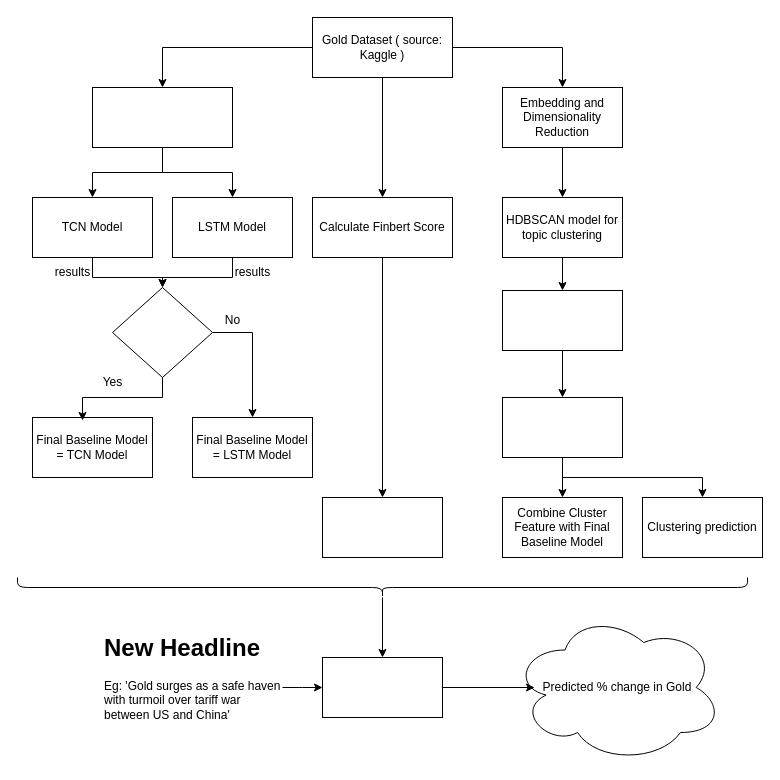
Some shapes in this 780 by 780 pixel diagram are drawn without their labels. The shapes that lost their labels are listed below. From the top down, each one's centre as x and y in pixels, then its label:
At point (162, 117): "Processed Dataset with Gold price information extracted from yfinancn".
At point (162, 332): "Is TCN better than LSTM?".
At point (562, 320): "Topic Refinement for Macro Grouping".
At point (562, 427): "Labelling clusters with LLM".
At point (382, 527): "Combine Sentiment Feature with Final Baseline Model".
At point (382, 687): "Final Model Creation with all features above".
